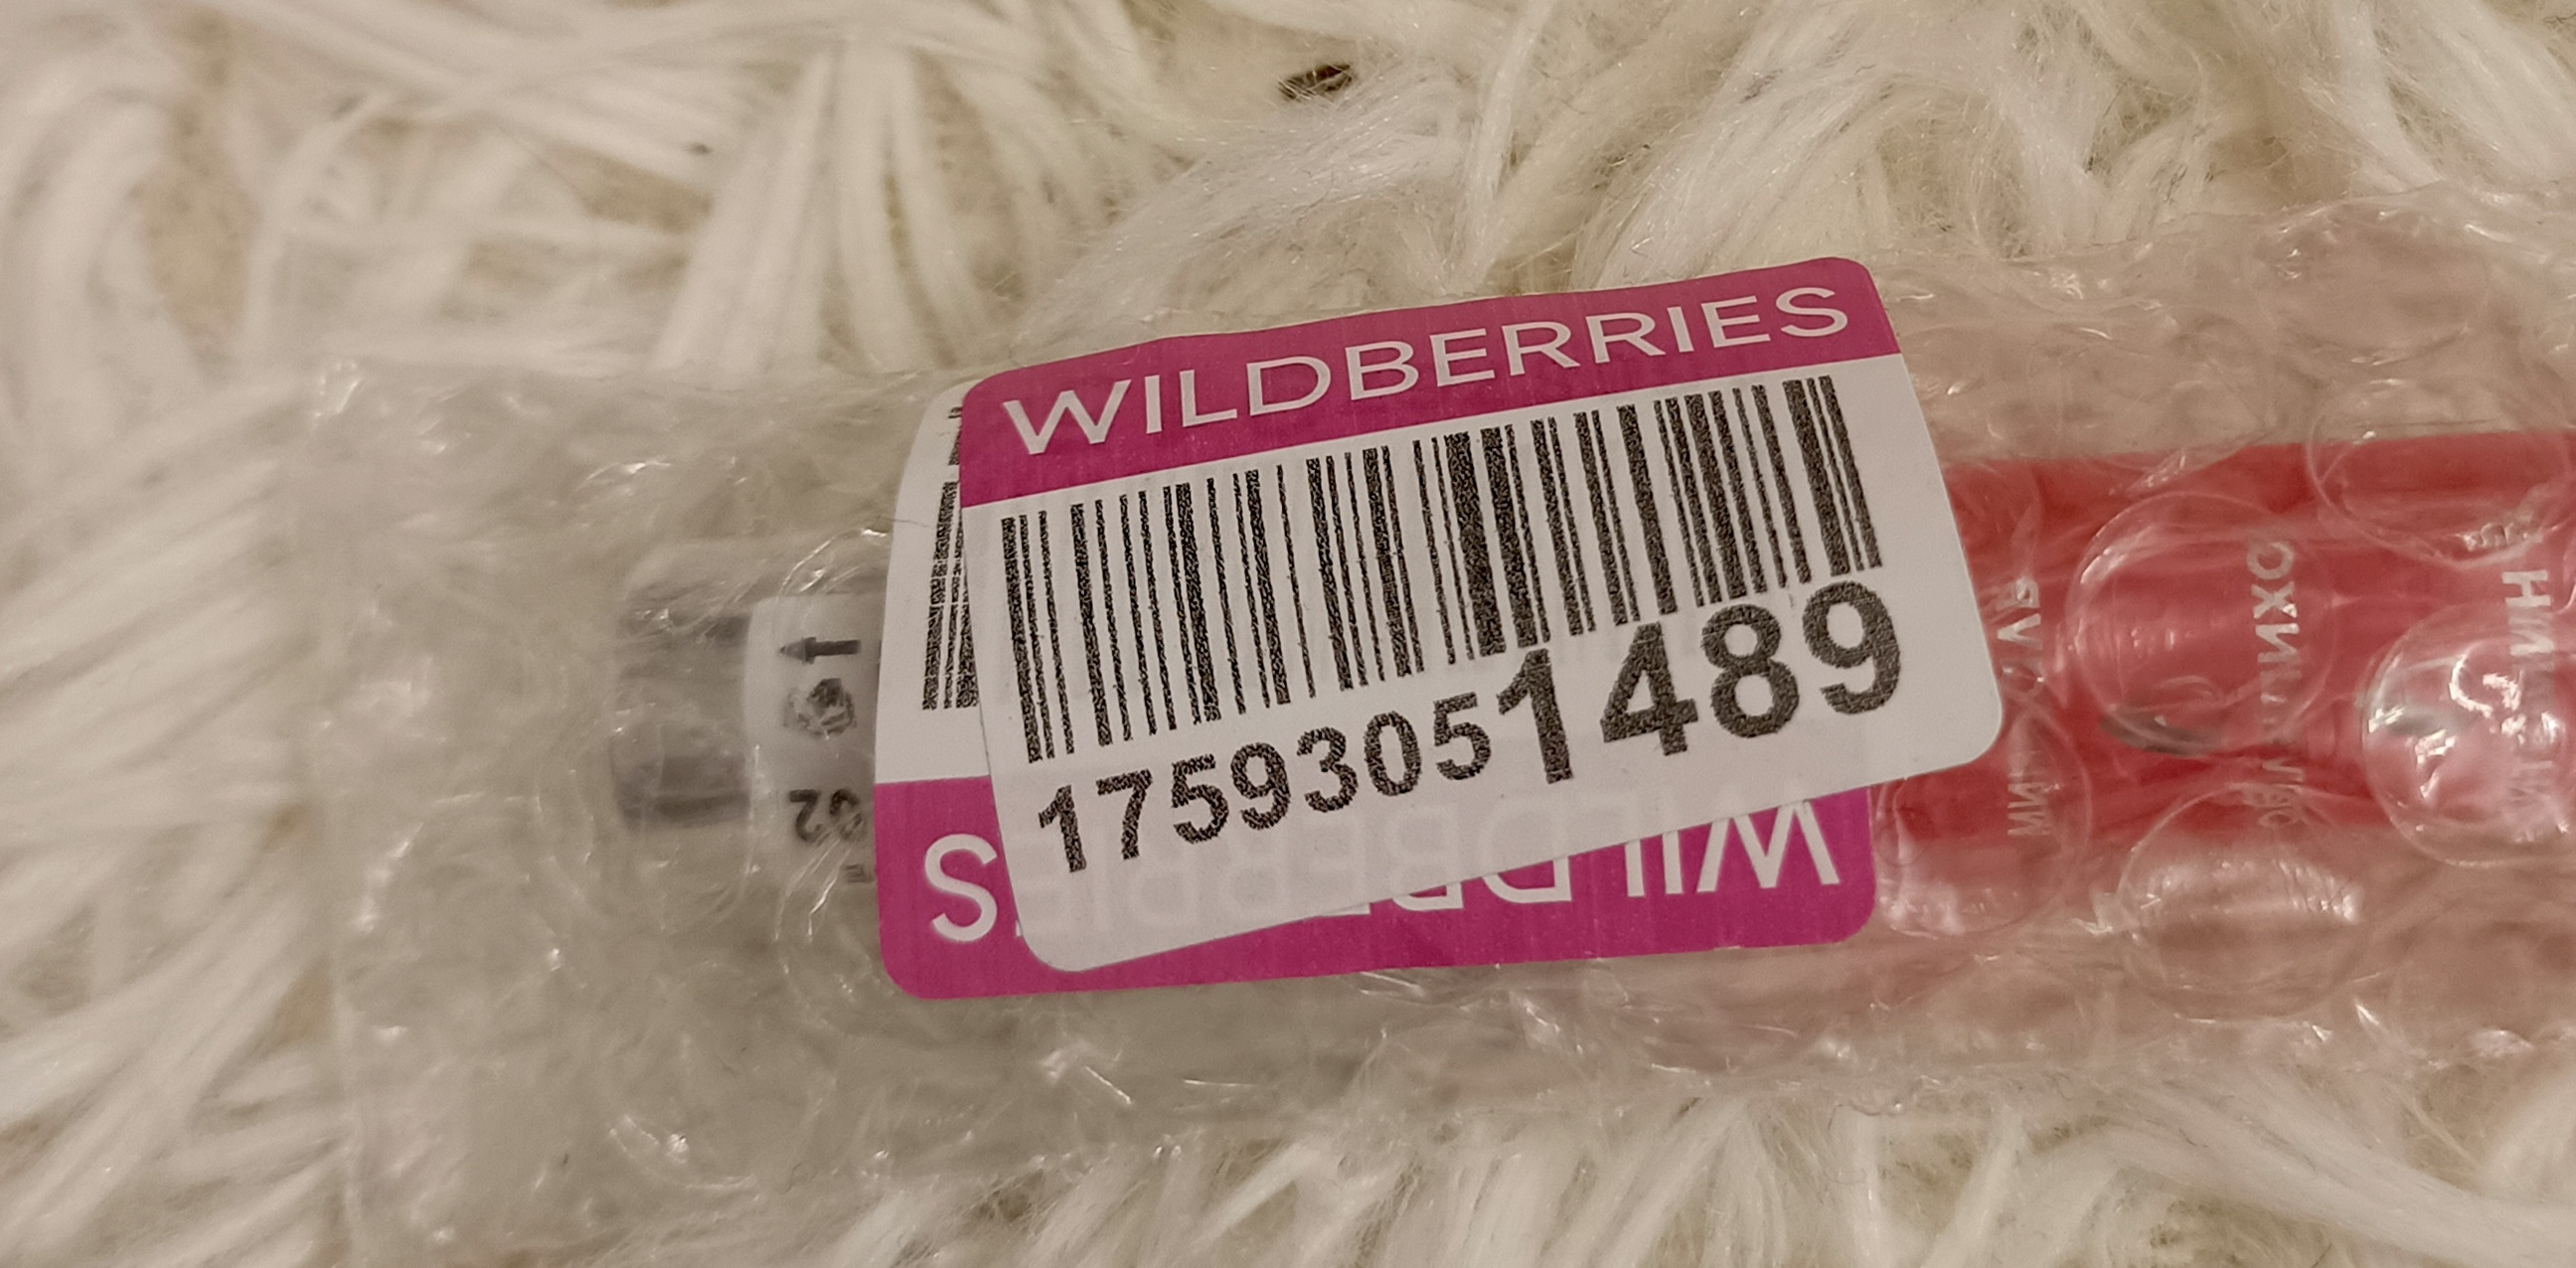1d: (989, 376, 1897, 764)
